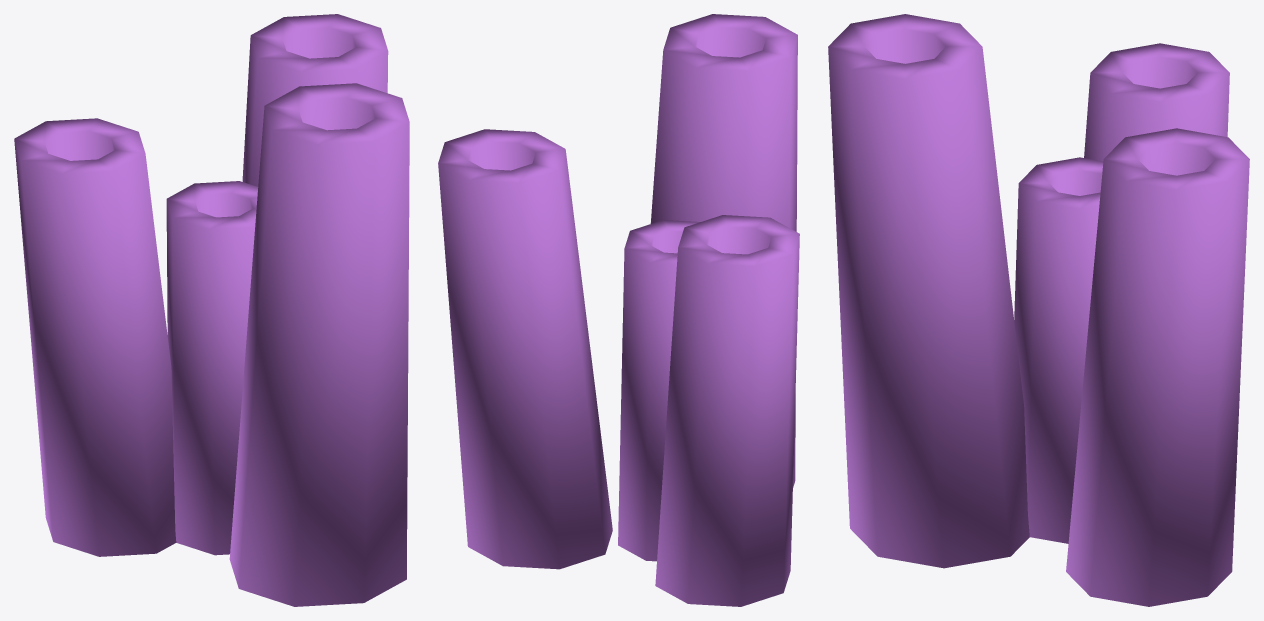
File: Small4.fbx
The picture shows the model from 3 angles, left to right: view 1: azimuth 30°, elevation 25°; view 2: azimuth 150°, elevation 25°; view 3: azimuth 270°, elevation 25°; orthographic projection. The views are drawn at different scales.
Visible parts, largest first — view 1: Small4; view 2: Small4; view 3: Small4.
Boxes of the visible parts, x1=… form: Small4: x1=14, y1=14, x2=409, y2=606; Small4: x1=438, y1=14, x2=799, y2=606; Small4: x1=828, y1=14, x2=1249, y2=606.
Bounding box in the file's own units: 1.58 × 1.92 × 1.52.
